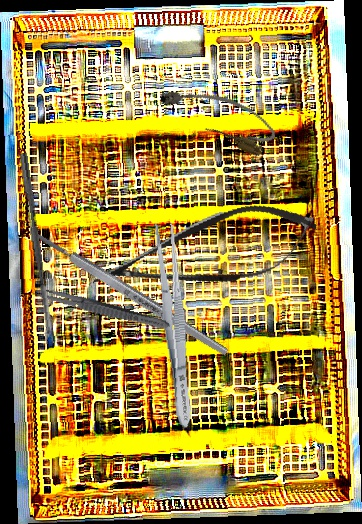Cannula: (155, 70, 281, 161)
Dressing Forceps: (151, 220, 198, 430), (29, 284, 173, 333)
Micro Scissor: (83, 192, 325, 313)
Scalpel Handle: (35, 230, 230, 359)
Surgical Spoon: (18, 152, 54, 345)
